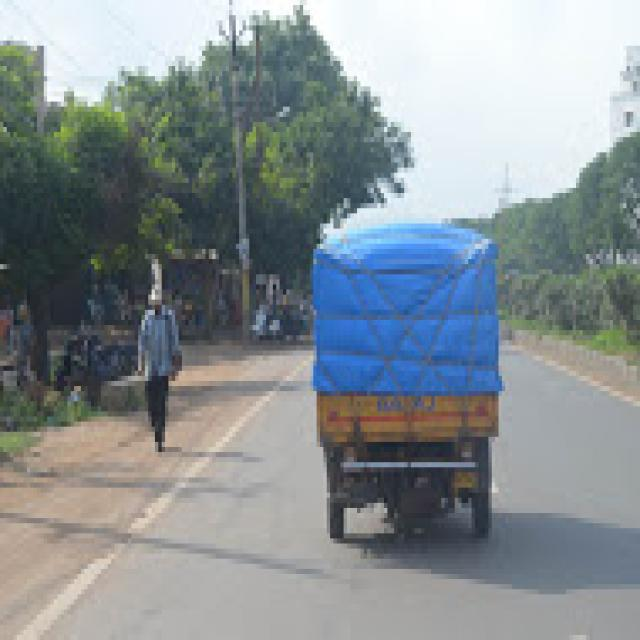truck_back: (304, 211, 504, 544)
